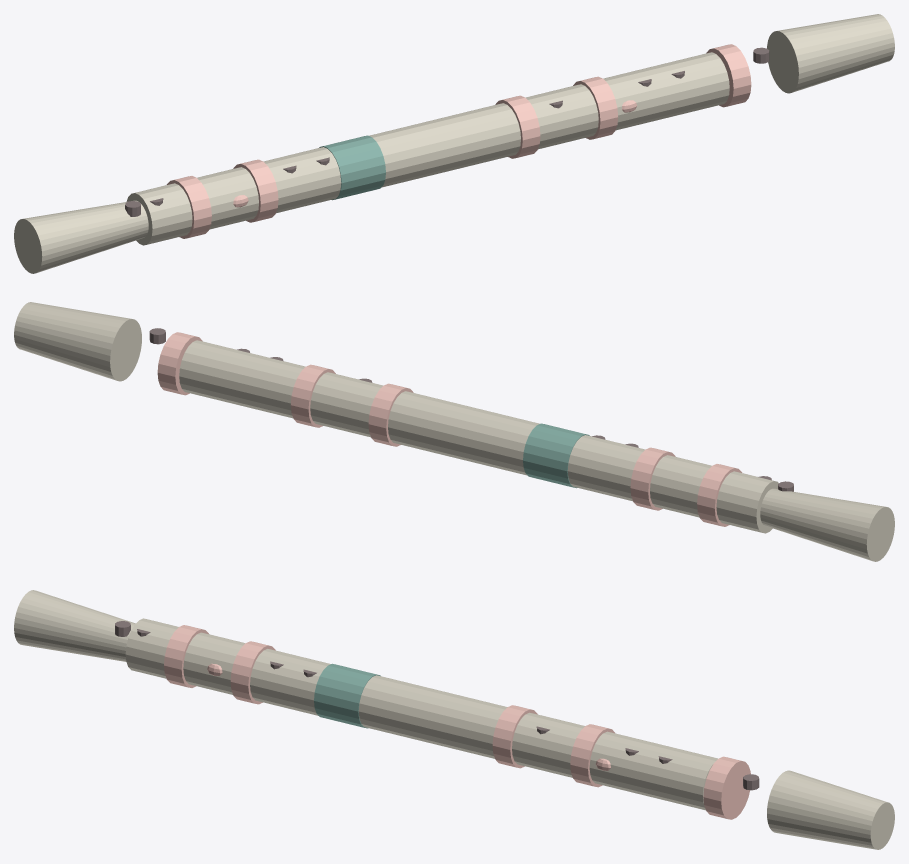
File: item_90_recorder_flute.glb
The picture shows the model from 3 angles, top to bottom: view 1: azimuth 30°, elevation 25°; view 2: azimuth 150°, elevation 25°; view 3: azimuth 330°, elevation 25°; orthographic projection.
Visible parts, largest first — view 1: I90_Body, I90_Tail, I90_Mouth, I90_Band, I90_Ring4, I90_Ring1, I90_Ring3, I90_Ring2, I90_Ring0; view 2: I90_Body, I90_Tail, I90_Mouth, I90_Band, I90_Ring4, I90_Ring1, I90_Ring3, I90_Ring2, I90_Ring0; view 3: I90_Body, I90_Tail, I90_Mouth, I90_Band, I90_Ring4, I90_Ring1, I90_Ring2, I90_Ring0, I90_Ring3.
Part boxes in pixels (left/top/right/bottom): I90_Body: left=126, top=52, right=729, bottom=245; I90_Tail: left=767, top=14, right=894, bottom=93; I90_Mouth: left=14, top=200, right=148, bottom=273; I90_Band: left=319, top=135, right=385, bottom=200; I90_Ring4: left=706, top=44, right=751, bottom=107; I90_Ring1: left=233, top=159, right=278, bottom=222; I90_Ring3: left=573, top=76, right=618, bottom=139; I90_Ring2: left=495, top=95, right=540, bottom=158; I90_Ring0: left=166, top=176, right=211, bottom=238; I90_Body: left=179, top=340, right=778, bottom=533; I90_Tail: left=14, top=302, right=141, bottom=381; I90_Mouth: left=760, top=488, right=894, bottom=561; I90_Band: left=523, top=423, right=589, bottom=488; I90_Ring4: left=157, top=332, right=202, bottom=395; I90_Ring1: left=630, top=447, right=675, bottom=510; I90_Ring3: left=290, top=364, right=335, bottom=427; I90_Ring2: left=368, top=383, right=413, bottom=446; I90_Ring0: left=697, top=464, right=742, bottom=526; I90_Body: left=125, top=618, right=717, bottom=810; I90_Tail: left=767, top=770, right=894, bottom=849; I90_Mouth: left=14, top=590, right=135, bottom=661; I90_Band: left=314, top=663, right=380, bottom=728; I90_Ring4: left=703, top=756, right=750, bottom=819; I90_Ring1: left=230, top=641, right=275, bottom=704; I90_Ring2: left=492, top=705, right=537, bottom=768; I90_Ring0: left=164, top=625, right=208, bottom=687; I90_Ring3: left=570, top=724, right=614, bottom=787.
Bounding box in the file's own units: 0.385 × 0.025 × 0.025.
